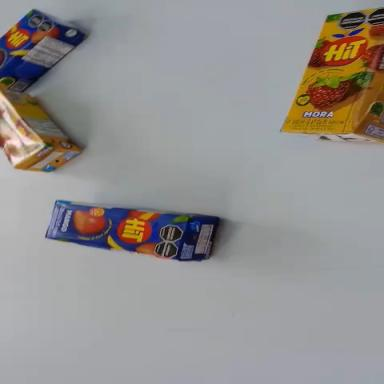HIT-MANGO: (45, 199, 220, 265), (0, 0, 89, 100)
HIT-MORA: (281, 8, 384, 144), (0, 75, 84, 194)
cara_F: (277, 0, 384, 158), (44, 200, 191, 261), (0, 3, 58, 73), (0, 87, 47, 167)
